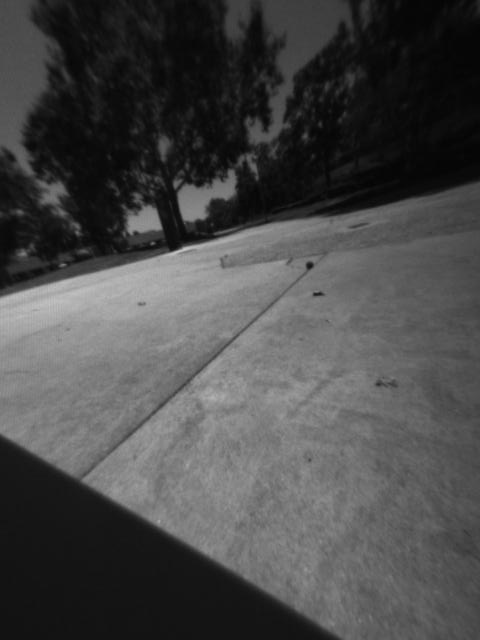dogtoy: (295, 253, 324, 279)
